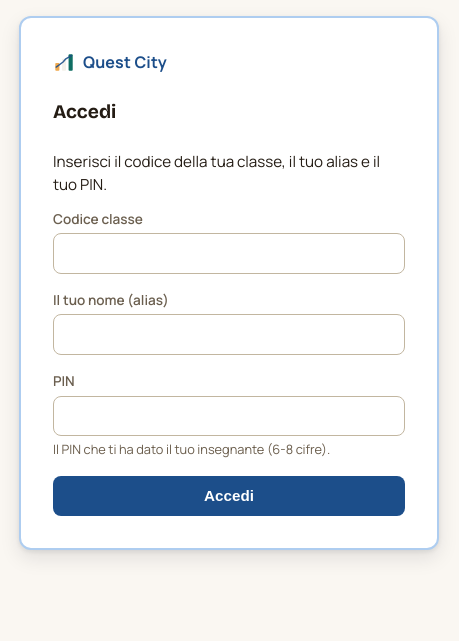
StudentLoginPage › shows the localized error message when the credentials are rejected
Type "CLASS-CODE-1" into the field labelled "Codice classe" at (229, 254), box x1=53 y1=233 x2=405 y2=274
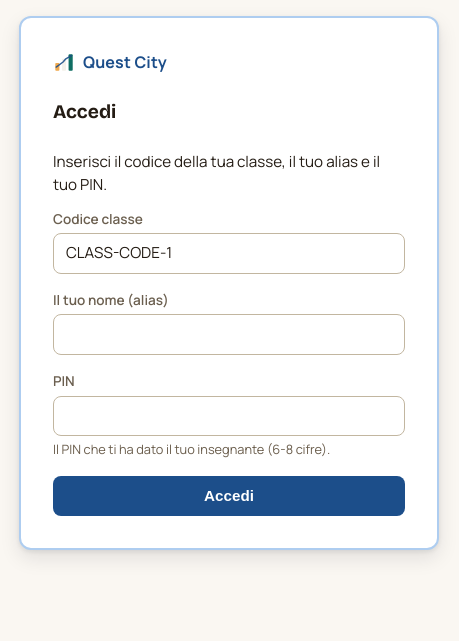
Type "Mario" into the field labelled "Il tuo nome (alias)" at (229, 335), box x1=53 y1=314 x2=405 y2=355
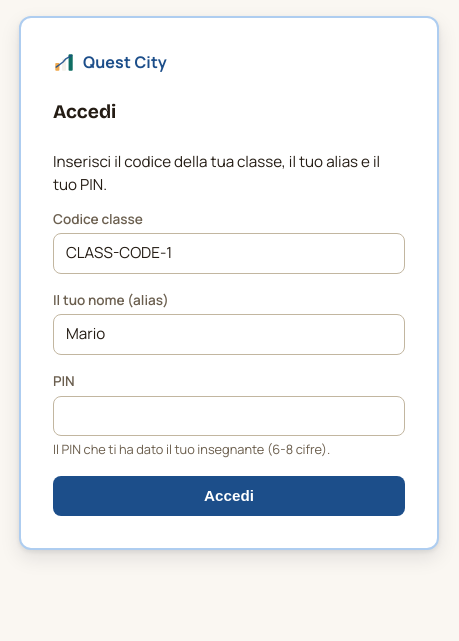
Type "000000" into the password field labelled "PIN" at (229, 416), box x1=53 y1=396 x2=405 y2=436
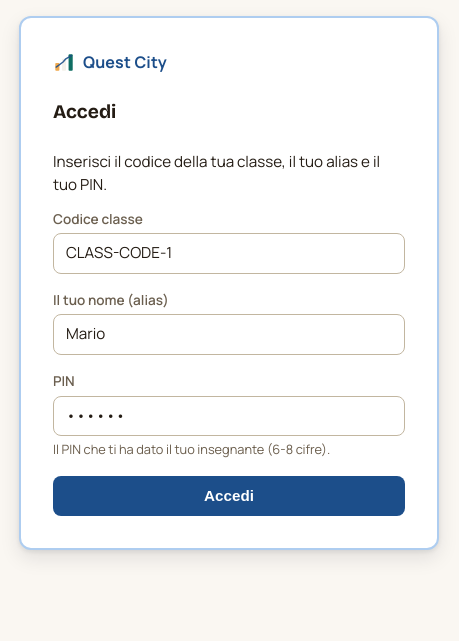
Click the button "Accedi" at (229, 496), box x1=53 y1=476 x2=405 y2=516
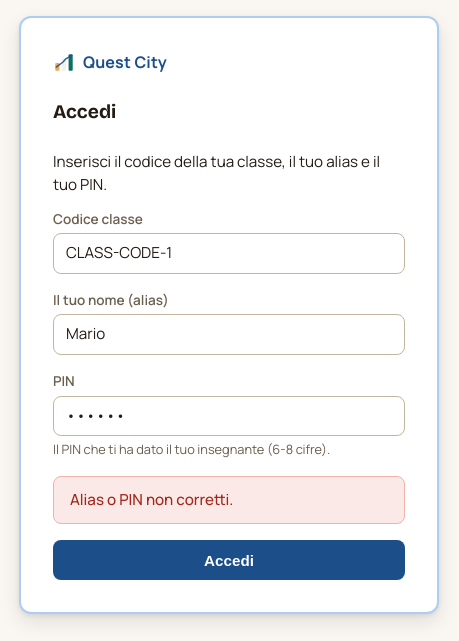
Expected: the text "Alias o PIN non corretti." is shown, x1=53 y1=476 x2=405 y2=524
